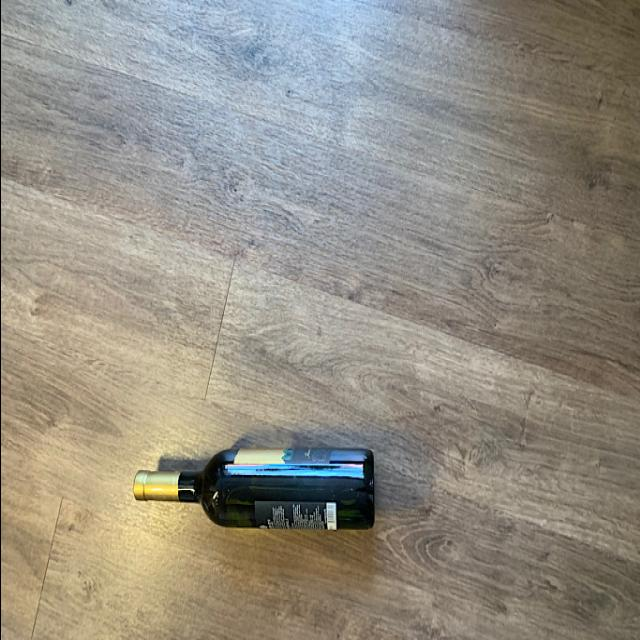litter: (129, 442, 377, 532)
